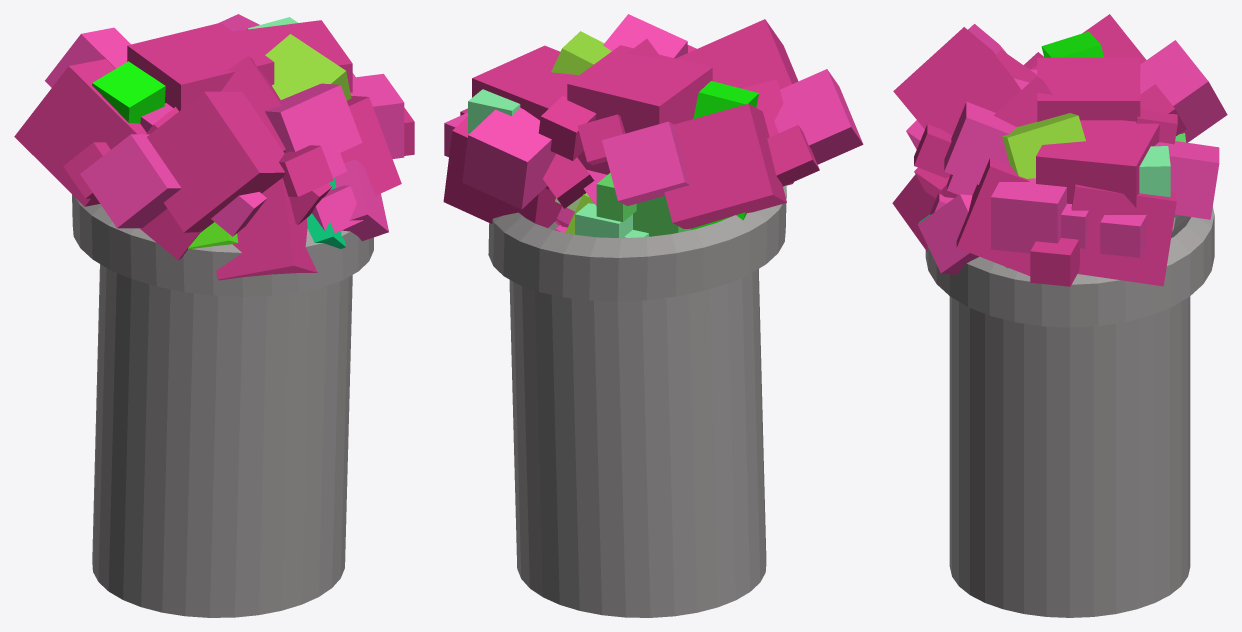
The model's file is PinkFlower.fbx.
3 renders of one model, left to right at view 1: azimuth 30°, elevation 25°; view 2: azimuth 150°, elevation 25°; view 3: azimuth 270°, elevation 25°, orthographic. The views are drawn at different scales.
Visible parts, largest first — view 1: Cylinder, Cube.021, Cube.038, Cube.001, Cube.020, Cube.041, Cube.010, Cube.083, Cube.011, Cube.081, Cube.008, Cube.009 (+11 smaller); view 2: Cylinder, Cube.038, Cube.001, Cube.019, Cube.039, Cube.020, Cube.021, Cube.008, Cube.018, Cube.016, Cube.023, Cube.010 (+9 smaller); view 3: Cylinder, Cube.021, Cube.008, Cube.001, Cube.018, Cube.009, Cube.039, Cube.010, Cube.019, Cube.011, Cube.083, Cube.059 (+13 smaller).
Part boxes in pixels (x1=…): Cylinder: x1=72, y1=194, x2=373, y2=617; Cube.021: x1=147, y1=91, x2=285, y2=232; Cube.038: x1=14, y1=59, x2=146, y2=206; Cube.001: x1=127, y1=22, x2=274, y2=111; Cube.020: x1=80, y1=134, x2=181, y2=228; Cube.041: x1=216, y1=178, x2=317, y2=280; Cube.010: x1=265, y1=83, x2=362, y2=159; Cube.083: x1=265, y1=34, x2=351, y2=100; Cube.011: x1=340, y1=96, x2=401, y2=195; Cube.081: x1=92, y1=61, x2=165, y2=123; Cube.008: x1=232, y1=20, x2=352, y2=92; Cube.009: x1=350, y1=73, x2=404, y2=158; Cylinder: x1=488, y1=185, x2=786, y2=617; Cube.038: x1=664, y1=103, x2=786, y2=228; Cube.001: x1=567, y1=45, x2=712, y2=174; Cube.019: x1=462, y1=107, x2=555, y2=209; Cube.039: x1=602, y1=121, x2=689, y2=205; Cube.020: x1=774, y1=69, x2=863, y2=164; Cube.021: x1=676, y1=19, x2=798, y2=89; Cube.008: x1=472, y1=45, x2=578, y2=189; Cube.018: x1=443, y1=116, x2=562, y2=227; Cube.016: x1=538, y1=96, x2=596, y2=160; Cube.023: x1=767, y1=125, x2=819, y2=186; Cube.010: x1=603, y1=14, x2=687, y2=58; Cylinder: x1=925, y1=206, x2=1214, y2=617; Cube.021: x1=893, y1=27, x2=1020, y2=135; Cube.008: x1=1036, y1=120, x2=1159, y2=207; Cube.001: x1=1037, y1=57, x2=1140, y2=121; Cube.018: x1=1071, y1=184, x2=1176, y2=286; Cube.009: x1=991, y1=178, x2=1066, y2=253; Cube.039: x1=1140, y1=40, x2=1227, y2=142; Cube.010: x1=944, y1=101, x2=1016, y2=184; Cube.019: x1=1154, y1=141, x2=1219, y2=219; Cube.011: x1=956, y1=157, x2=1030, y2=275; Cube.083: x1=1002, y1=113, x2=1085, y2=178; Cube.059: x1=917, y1=194, x2=978, y2=274.
Size of the model in its own units: 748 by 1056 by 633.
